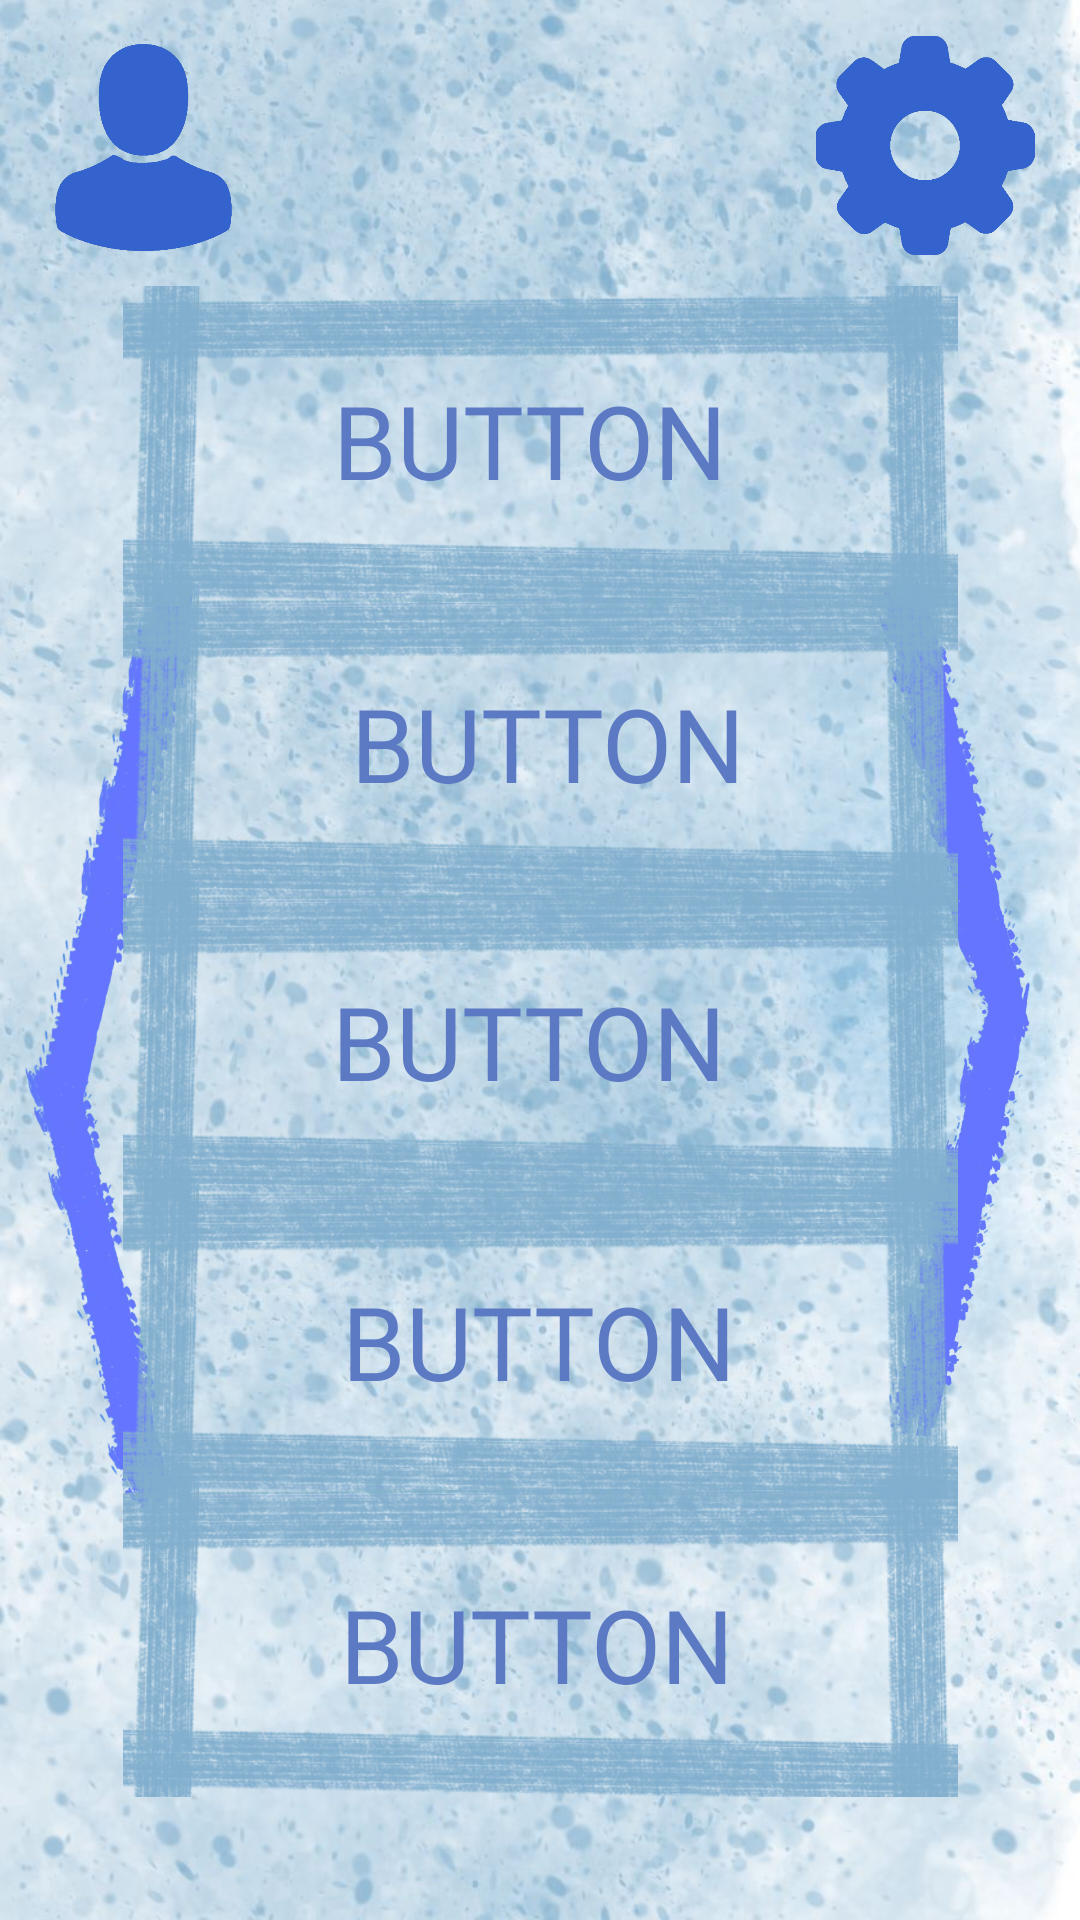

Locate icon controls on the screen. Image size 1080*1920, boxes as (x1, y1, x2, y2).
settings: (811, 36, 1039, 255)
